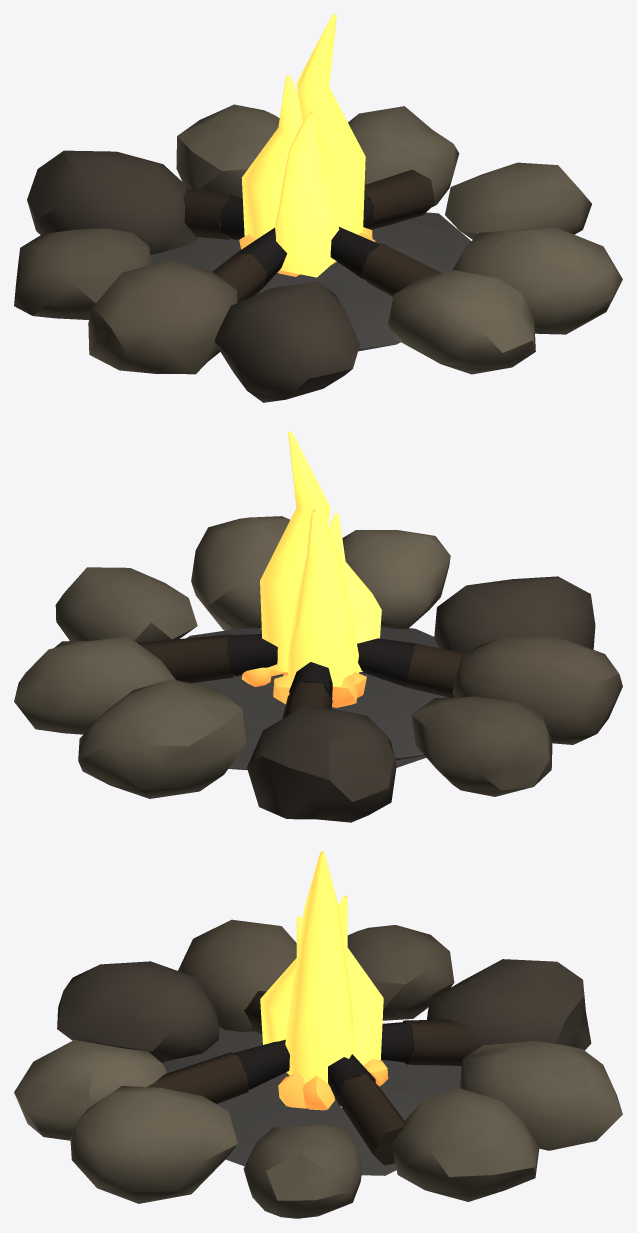
File: fogon.glb
The picture shows the model from 3 angles, top to bottom: view 1: azimuth 30°, elevation 25°; view 2: azimuth 150°, elevation 25°; view 3: azimuth 270°, elevation 25°; orthographic projection.
Visible parts, largest first — view 1: Fogon; view 2: Fogon; view 3: Fogon.
Boxes of the visible parts, x1=… form: Fogon: x1=14, y1=14, x2=622, y2=402; Fogon: x1=14, y1=431, x2=622, y2=822; Fogon: x1=14, y1=851, x2=622, y2=1218.
Size of the model in its own units: 1.36 by 0.6914 by 1.36.
